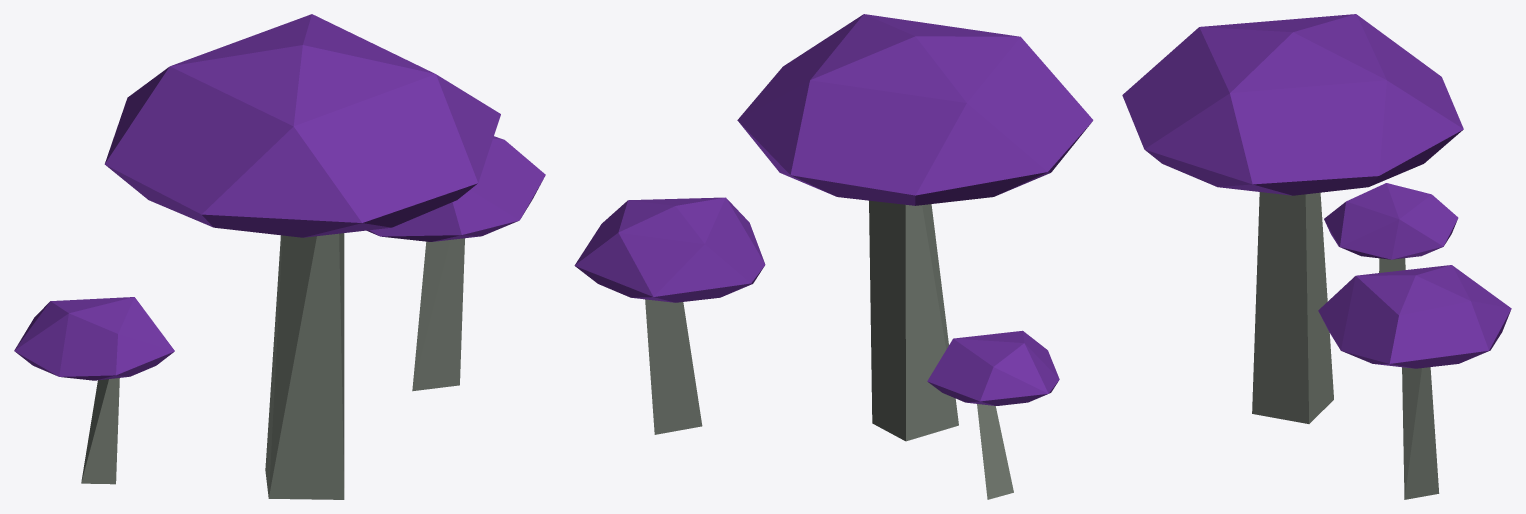
The model's file is Cogumelos_do_breu_LOD1.fbx.
3 renders of one model, left to right at view 1: azimuth 30°, elevation 25°; view 2: azimuth 150°, elevation 25°; view 3: azimuth 270°, elevation 25°, orthographic. The views are drawn at different scales.
Parts seen in each view (by area): view 1: Cogumelos_do_breu_LOD1; view 2: Cogumelos_do_breu_LOD1; view 3: Cogumelos_do_breu_LOD1.
Boxes of the visible parts, <box> form: Cogumelos_do_breu_LOD1: <box>14,14,545,499</box>; Cogumelos_do_breu_LOD1: <box>574,14,1093,499</box>; Cogumelos_do_breu_LOD1: <box>1122,14,1511,499</box>.
Size of the model in its own units: 104 by 84.44 by 79.35.
1 material, 1 textured.
